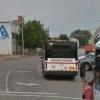Bus: (40, 34, 77, 81)
